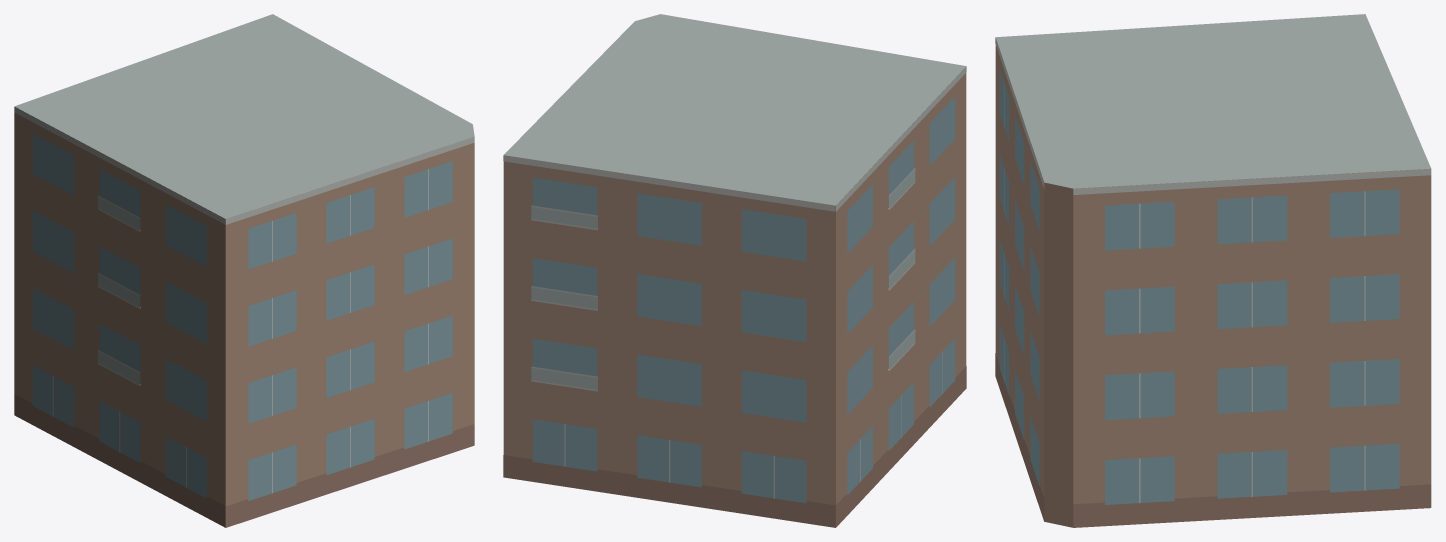
Rendered from survey-upis-32926201.glb.
3 renders of one model, left to right at view 1: azimuth 30°, elevation 25°; view 2: azimuth 150°, elevation 25°; view 3: azimuth 270°, elevation 25°, orthographic. The views are drawn at different scales.
Visible parts, largest first — view 1: survey-upis-32926201.tmp; view 2: survey-upis-32926201.tmp; view 3: survey-upis-32926201.tmp.
Part boxes in pixels (x1,y1,x2,y2): survey-upis-32926201.tmp: (14,14,474,527); survey-upis-32926201.tmp: (503,14,966,527); survey-upis-32926201.tmp: (995,14,1431,527).
Bounding box in the file's own units: 14.03 × 12.7 × 14.8.
